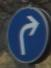turn: (5, 6, 45, 62)
